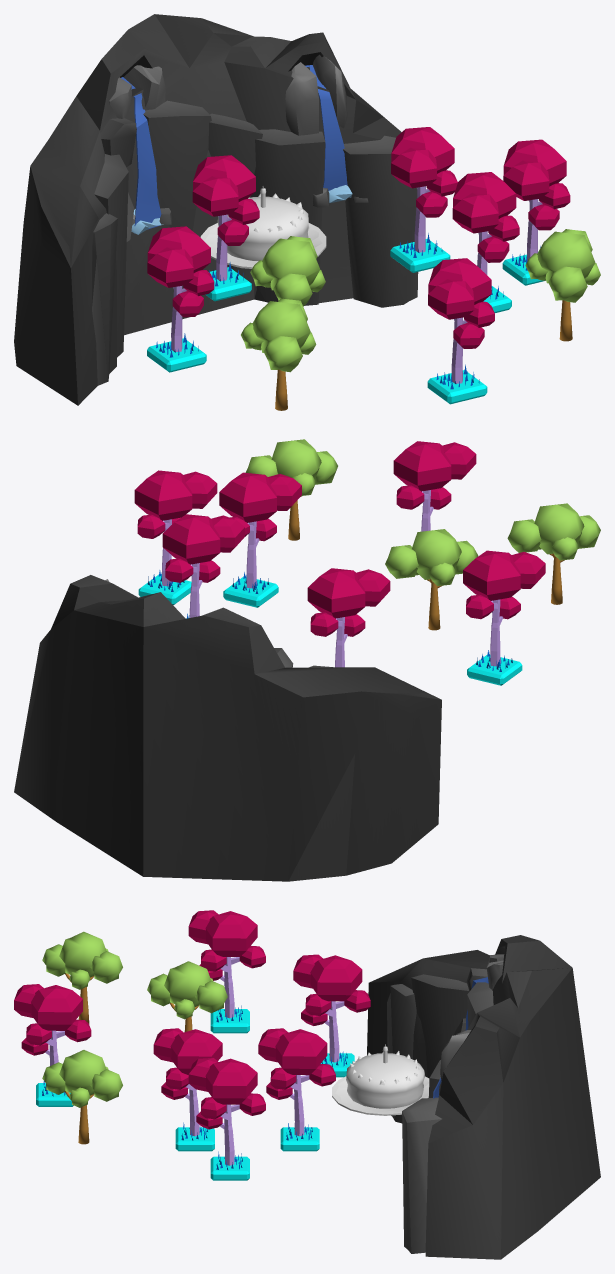
The model's file is videodemo1.glb.
3 views of the same model, one above another, from view 1: azimuth 30°, elevation 25°; view 2: azimuth 150°, elevation 25°; view 3: azimuth 270°, elevation 25° (orthographic). The views are drawn at different scales.
Visible parts, largest first — view 1: object 2, CombinedMesh (×6), Cake; view 2: object 2, CombinedMesh (×6); view 3: object 2, CombinedMesh (×6), Cake.
Boxes of the visible parts, box(x1,y1,x2,y2) form: object 2: box(14, 14, 418, 405); CombinedMesh (×6): box(147, 127, 600, 410); Cake: box(200, 186, 326, 268); object 2: box(14, 575, 441, 881); CombinedMesh (×6): box(134, 439, 600, 685); object 2: box(367, 935, 600, 1259); CombinedMesh (×6): box(14, 910, 370, 1180); Cake: box(332, 1044, 429, 1115).
Size of what is drawn, in the model's own units: 11.77 by 7.1 by 16.81.
Materials: 7 (1 with a texture image).
